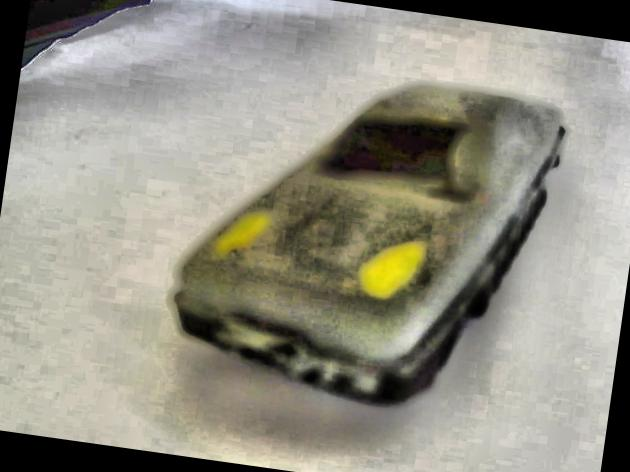normal_car: (150, 45, 572, 431)
